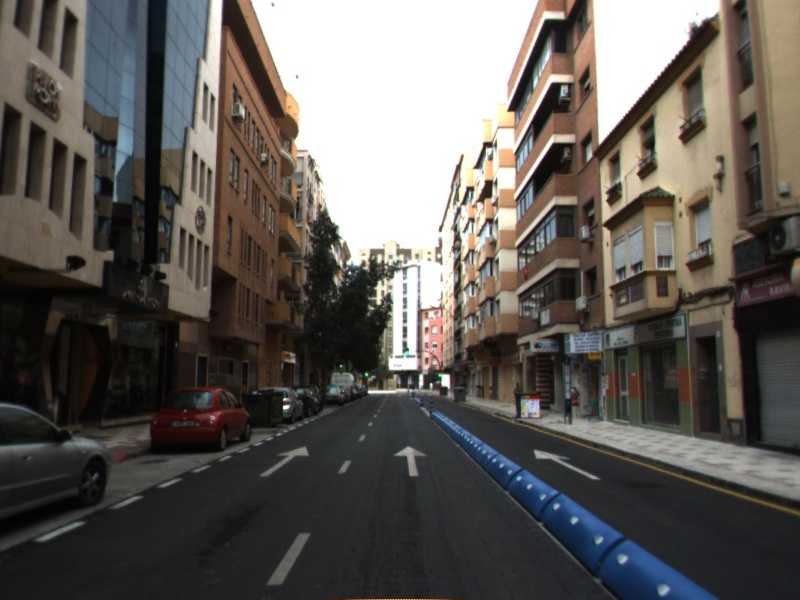STRAIGHT: (533, 448, 602, 481), (258, 445, 310, 478), (392, 444, 429, 478)
